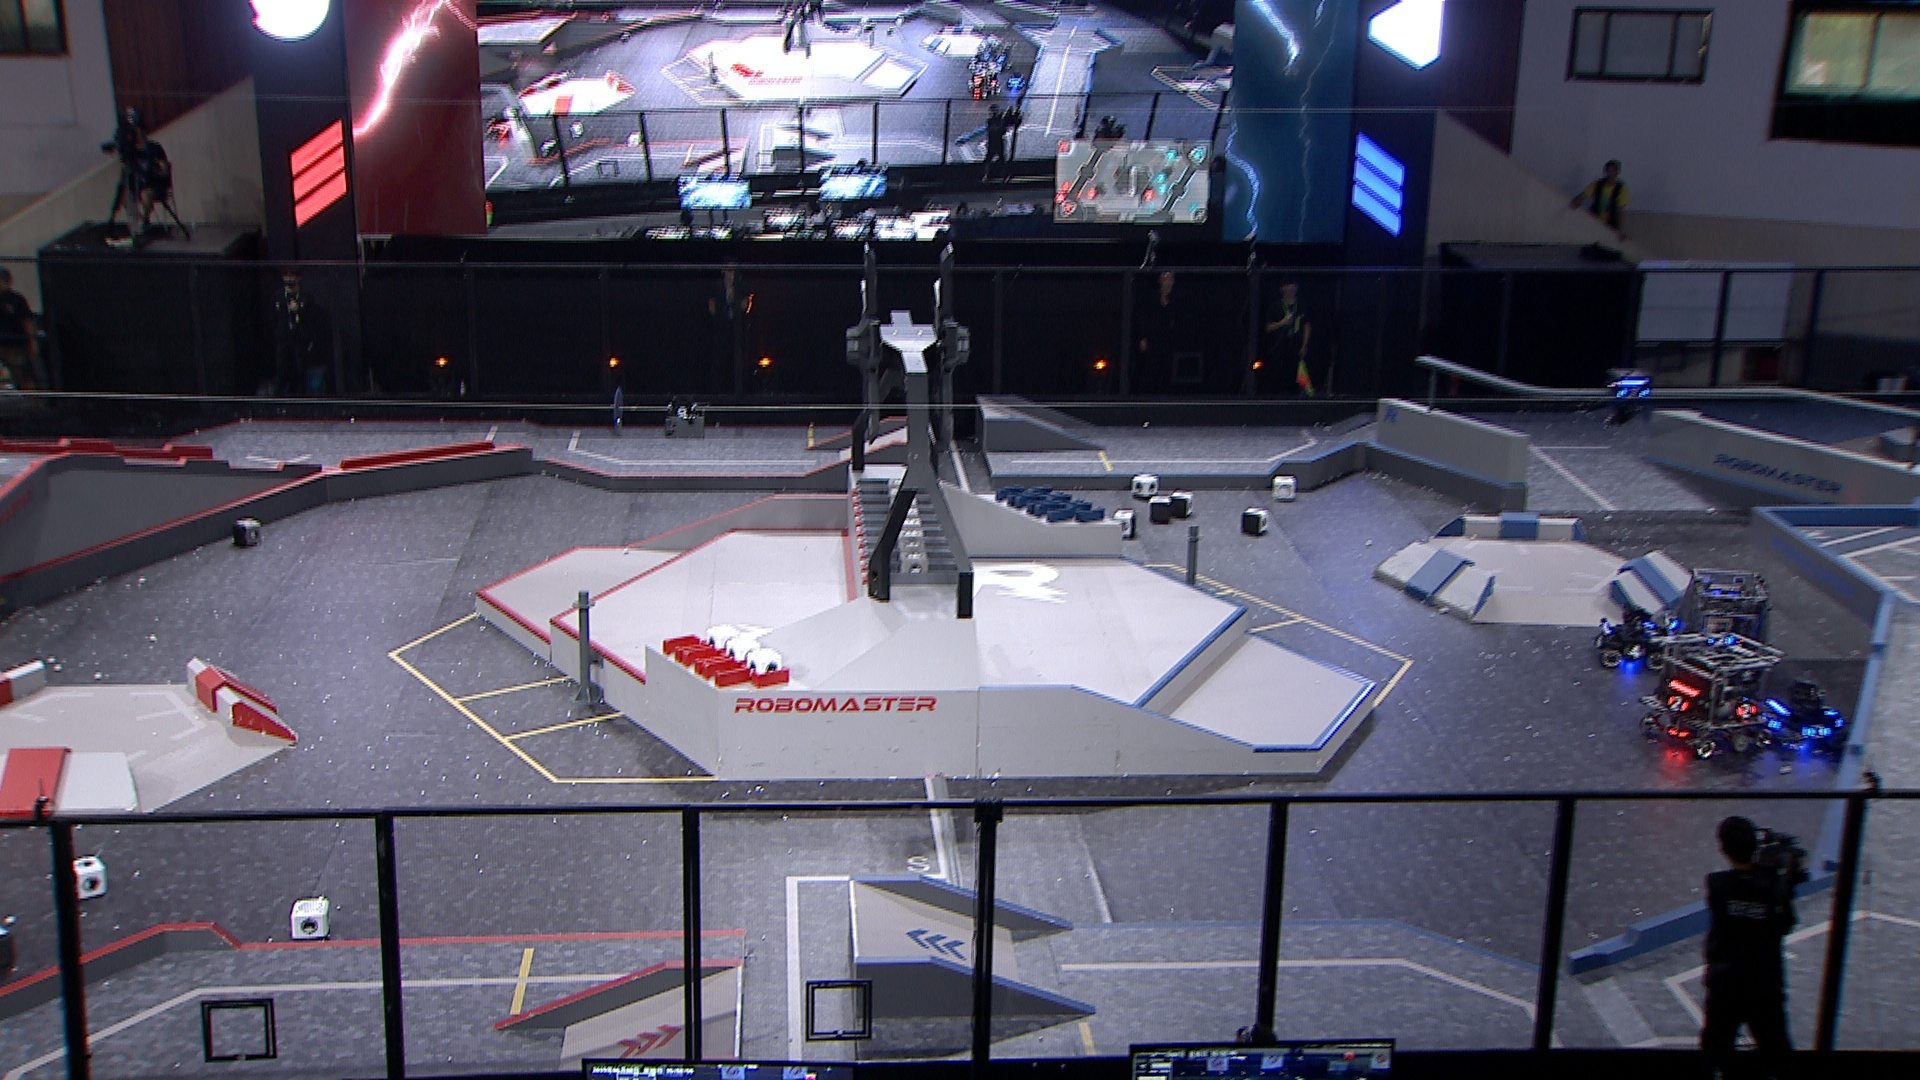armor: (1664, 694, 1692, 713), (1756, 713, 1783, 733), (1801, 725, 1832, 741), (1614, 386, 1650, 400), (1623, 644, 1650, 659), (1733, 702, 1756, 717), (1818, 703, 1840, 717), (1593, 636, 1605, 651)
car: (1634, 632, 1789, 761), (1658, 566, 1778, 690), (1749, 674, 1855, 756), (1589, 603, 1675, 671)
ignore: (968, 33, 1011, 74), (965, 69, 1004, 102), (480, 109, 517, 142), (1005, 69, 1030, 90)
watcher: (1602, 363, 1662, 431)
